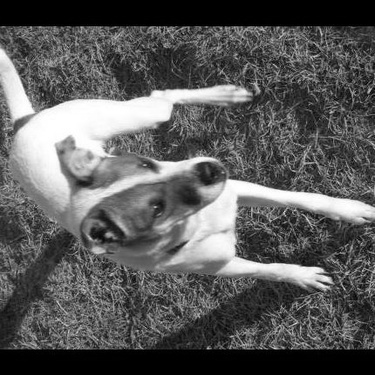dog: (1, 40, 372, 298)
